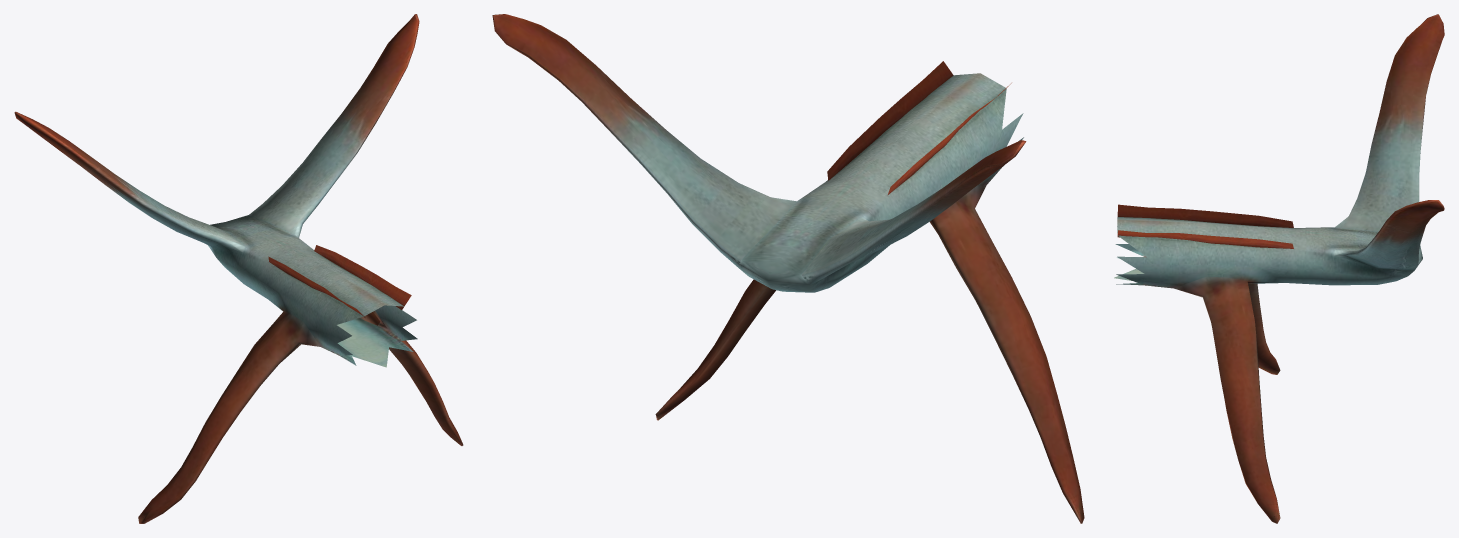
Rendered from Reaper_Cola.obj.
3 views of the same model, side by side, from view 1: azimuth 30°, elevation 25°; view 2: azimuth 150°, elevation 25°; view 3: azimuth 270°, elevation 25° (orthographic). The views are drawn at different scales.
Size of the model in its own units: 4.77 by 4.07 by 3.58.
